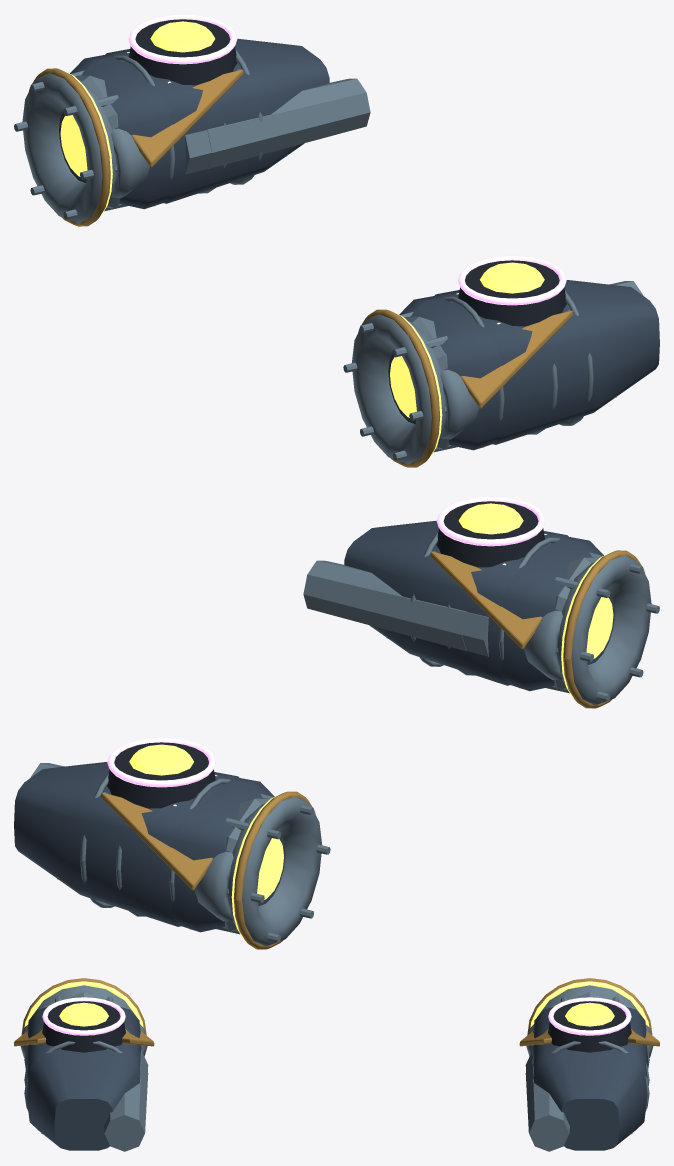
Rendered from engine.glb.
The picture shows the model from 3 angles, top to bottom: view 1: azimuth 30°, elevation 25°; view 2: azimuth 150°, elevation 25°; view 3: azimuth 270°, elevation 25°; orthographic projection. The views are drawn at different scales.
Visible parts, largest first — view 1: e_twin Fitting gunmetal, e_nova Brushed fitting edges, e_nova Fitting gunmetal, e_twin Brushed fitting edges, e_nova Champagne gold edging, e_fusion Machined graphite, e_fusion e_fusion emitter, e_fusion Fusion amber core, e_nova e_nova emitter, e_ion Brushed fitting edges, e_fusion Brushed fitting edges; view 2: e_twin Fitting gunmetal, e_nova Brushed fitting edges, e_nova Fitting gunmetal, e_twin Brushed fitting edges, e_nova Champagne gold edging, e_fusion Machined graphite, e_fusion e_fusion emitter, e_fusion Fusion amber core, e_nova e_nova emitter, e_ion Brushed fitting edges, e_fusion Brushed fitting edges; view 3: e_twin Fitting gunmetal, e_twin Brushed fitting edges, e_fusion Machined graphite, e_nova Champagne gold edging, e_fusion e_fusion emitter, e_nova Brushed fitting edges, e_fusion Fusion amber core, e_nova e_nova emitter, e_ion Brushed fitting edges, e_nova Fitting gunmetal, e_fusion Brushed fitting edges.
Part boxes in pixels (box(x1,y1,x2,y2)): e_twin Fitting gunmetal: box(105, 38, 659, 444); e_nova Brushed fitting edges: box(14, 70, 457, 464); e_nova Fitting gunmetal: box(59, 55, 501, 450); e_twin Brushed fitting edges: box(111, 69, 643, 439); e_nova Champagne gold edging: box(28, 68, 572, 467); e_fusion Machined graphite: box(129, 19, 566, 326); e_fusion e_fusion emitter: box(128, 14, 566, 305); e_fusion Fusion amber core: box(150, 21, 544, 293); e_nova e_nova emitter: box(60, 70, 442, 457); e_ion Brushed fitting edges: box(114, 49, 593, 447); e_fusion Brushed fitting edges: box(75, 75, 616, 449); e_twin Fitting gunmetal: box(14, 520, 568, 926); e_nova Brushed fitting edges: box(216, 552, 659, 946); e_nova Fitting gunmetal: box(171, 537, 614, 932); e_twin Brushed fitting edges: box(30, 551, 562, 921); e_nova Champagne gold edging: box(101, 550, 645, 949); e_fusion Machined graphite: box(107, 501, 544, 808); e_fusion e_fusion emitter: box(107, 496, 545, 787); e_fusion Fusion amber core: box(129, 503, 523, 775); e_nova e_nova emitter: box(231, 552, 613, 939); e_ion Brushed fitting edges: box(80, 531, 559, 929); e_fusion Brushed fitting edges: box(57, 557, 598, 931); e_twin Fitting gunmetal: box(25, 1017, 648, 1150); e_twin Brushed fitting edges: box(20, 1024, 653, 1151); e_fusion Machined graphite: box(42, 1001, 631, 1052); e_nova Champagne gold edging: box(14, 978, 659, 1046); e_fusion e_fusion emitter: box(42, 997, 631, 1035); e_nova Brushed fitting edges: box(31, 985, 642, 1071); e_fusion Fusion amber core: box(59, 1002, 614, 1026); e_nova e_nova emitter: box(24, 981, 649, 1027); e_ion Brushed fitting edges: box(24, 1041, 649, 1110); e_nova Fitting gunmetal: box(27, 1007, 646, 1045); e_fusion Brushed fitting edges: box(41, 992, 632, 1134).
Size of the model in its own units: 15.81 by 8.61 by 40.87.
